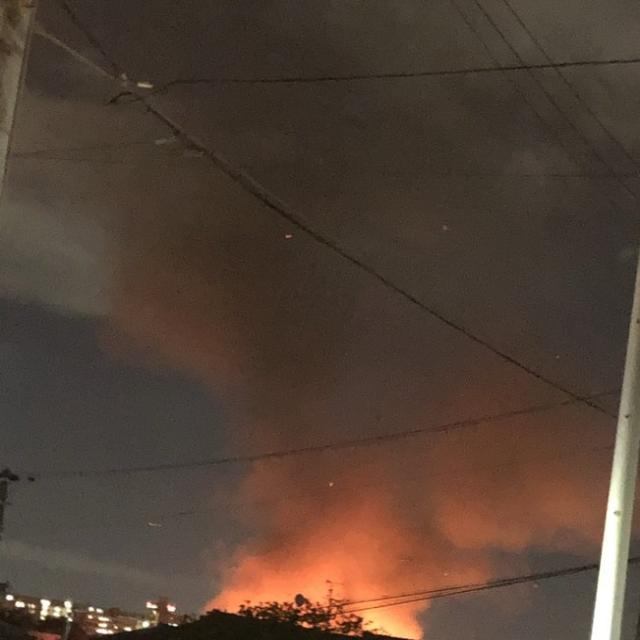Fire: (203, 535, 424, 640)
Smoke: (94, 0, 638, 563)
